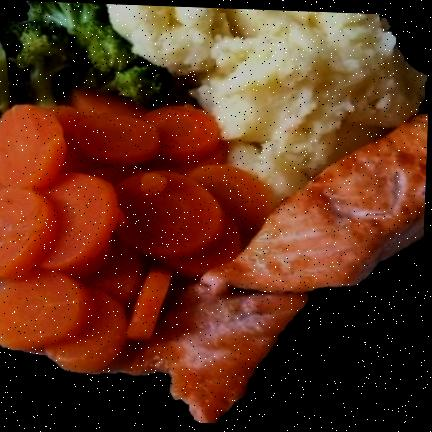broccoli: (0, 1, 188, 118)
carrot: (0, 83, 280, 373)
meat: (129, 114, 428, 427)
potato: (111, 4, 426, 193)
